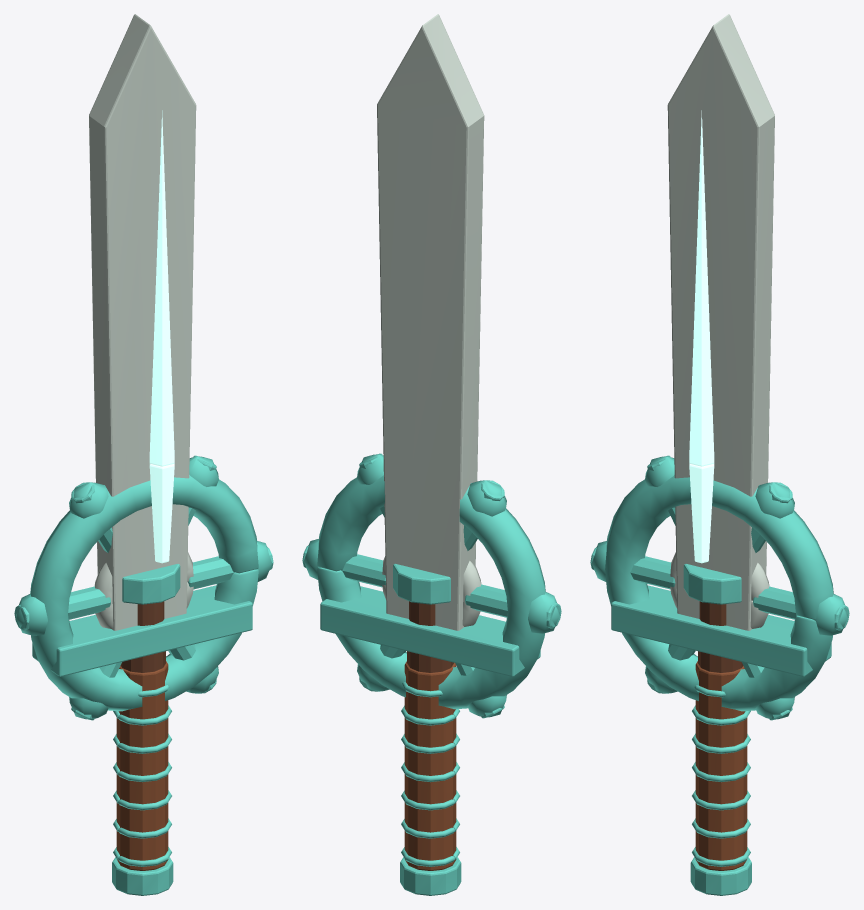
File: item_029.glb
3 views of the same model, side by side, from view 1: azimuth 30°, elevation 25°; view 2: azimuth 150°, elevation 25°; view 3: azimuth 330°, elevation 25° (orthographic).
Parts seen in each view (by area): view 1: Item_029_starwheel_longsword; view 2: Item_029_starwheel_longsword; view 3: Item_029_starwheel_longsword.
Boxes of the visible parts, box(x1,y1,x2,y2) form: Item_029_starwheel_longsword: box(14, 14, 273, 895); Item_029_starwheel_longsword: box(302, 14, 561, 895); Item_029_starwheel_longsword: box(590, 14, 849, 895).
Size of the model in its own units: 0.526 by 1.7 by 0.1596.
